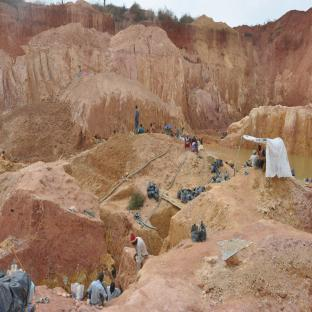Person: (130, 232, 148, 266), (134, 102, 139, 132), (185, 134, 190, 150)
